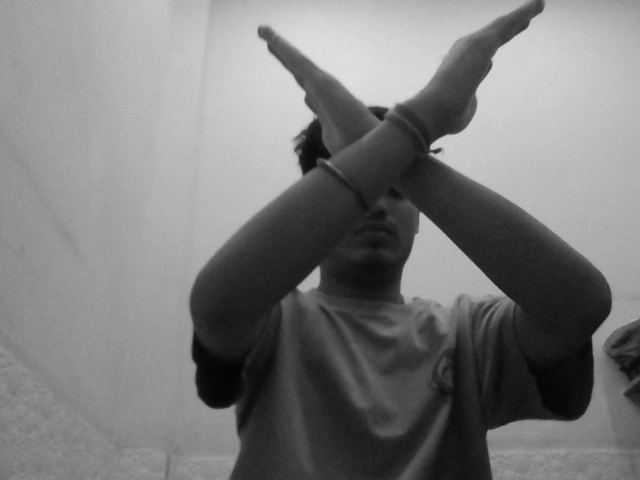No: (242, 1, 552, 234)
